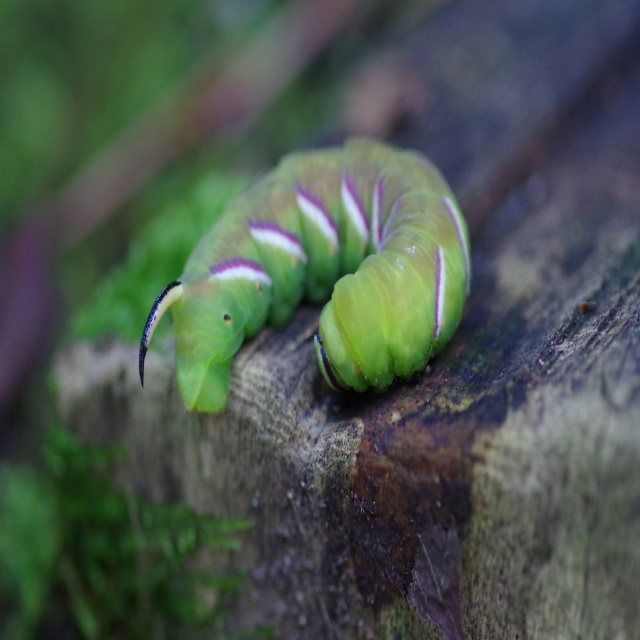Caterpillar: (136, 135, 469, 413)
